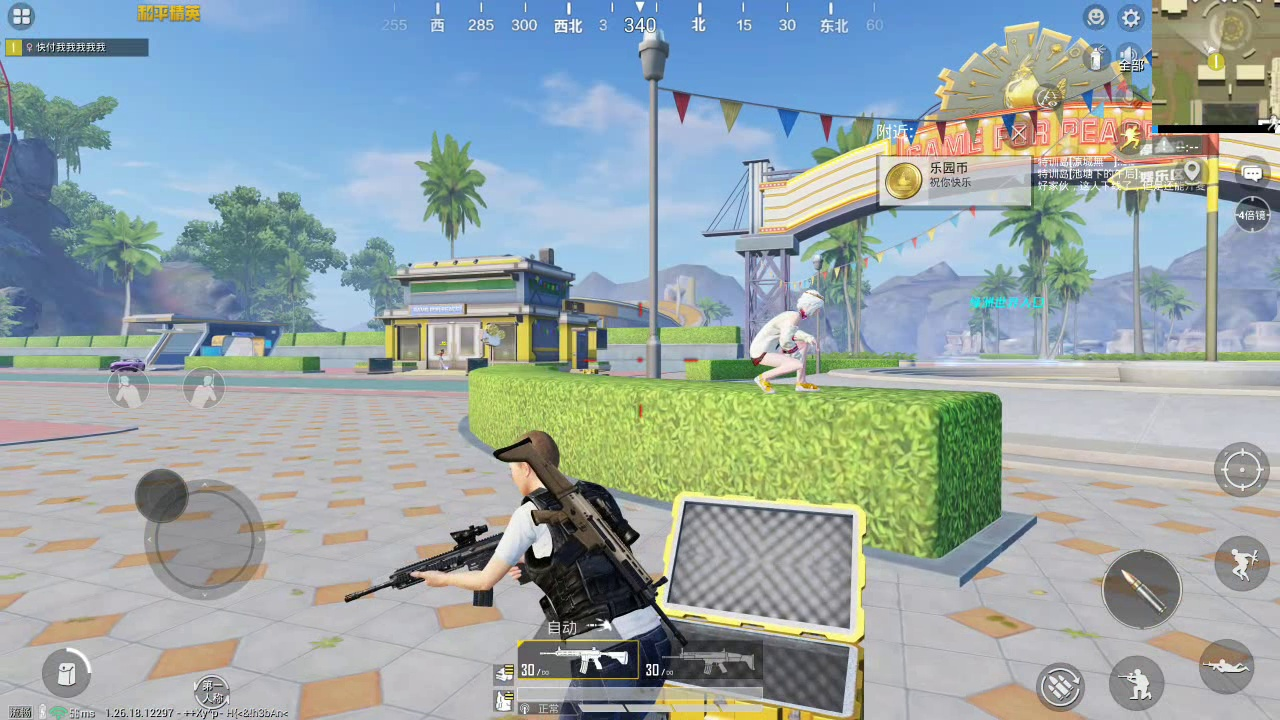enemy: (748, 290, 825, 393)
